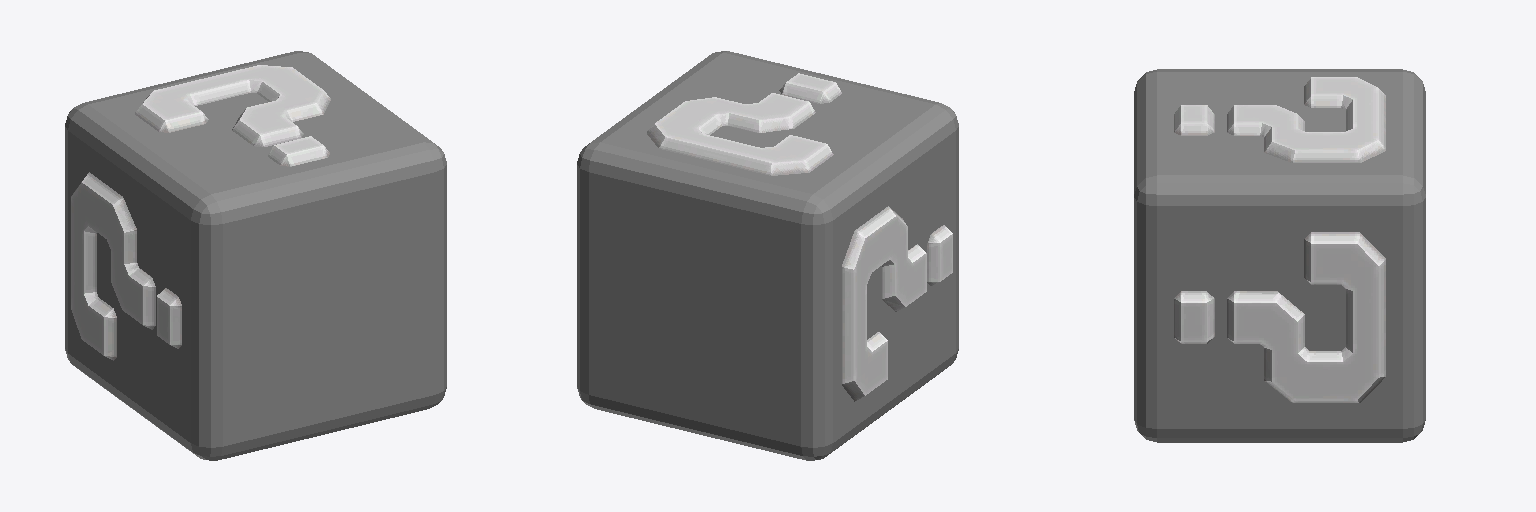
3 renders of one model, left to right at view 1: azimuth 30°, elevation 25°; view 2: azimuth 150°, elevation 25°; view 3: azimuth 270°, elevation 25°, orthographic.
Visible parts, largest first — view 1: BlockQuestion__BlockQuestionMat00, BlockQuestion__BlockQuestionMat01; view 2: BlockQuestion__BlockQuestionMat00, BlockQuestion__BlockQuestionMat01; view 3: BlockQuestion__BlockQuestionMat00, BlockQuestion__BlockQuestionMat01.
Boxes of the visible parts, x1=… form: BlockQuestion__BlockQuestionMat00: x1=65, y1=51, x2=446, y2=460; BlockQuestion__BlockQuestionMat01: x1=71, y1=65, x2=330, y2=360; BlockQuestion__BlockQuestionMat00: x1=577, y1=51, x2=958, y2=460; BlockQuestion__BlockQuestionMat01: x1=647, y1=73, x2=952, y2=401; BlockQuestion__BlockQuestionMat00: x1=1134, y1=69, x2=1425, y2=442; BlockQuestion__BlockQuestionMat01: x1=1174, y1=77, x2=1385, y2=402.
Size of the model in its own units: 110 by 110 by 103.
Materials: 2 (1 with a texture image).